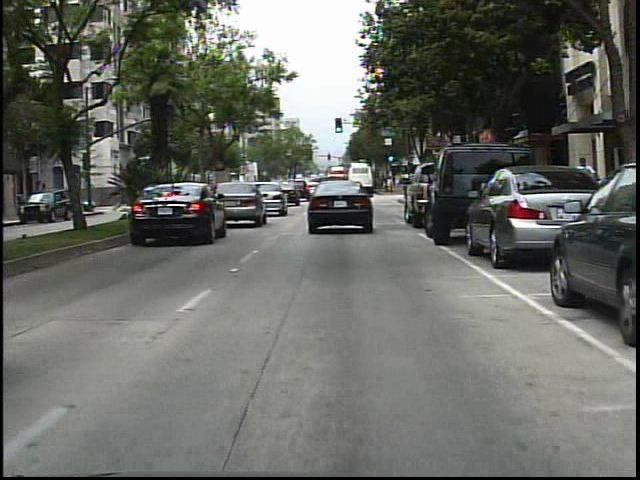person: (571, 154, 597, 221)
